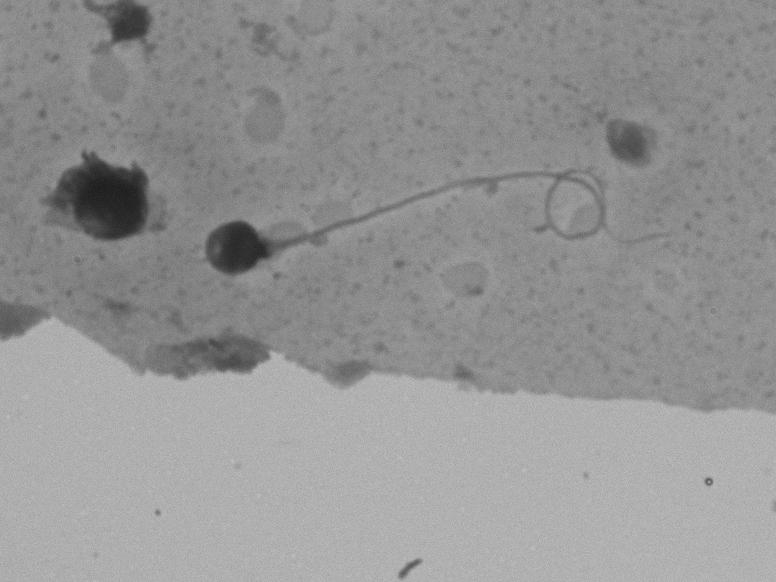Abnormal: (188, 130, 652, 316)
